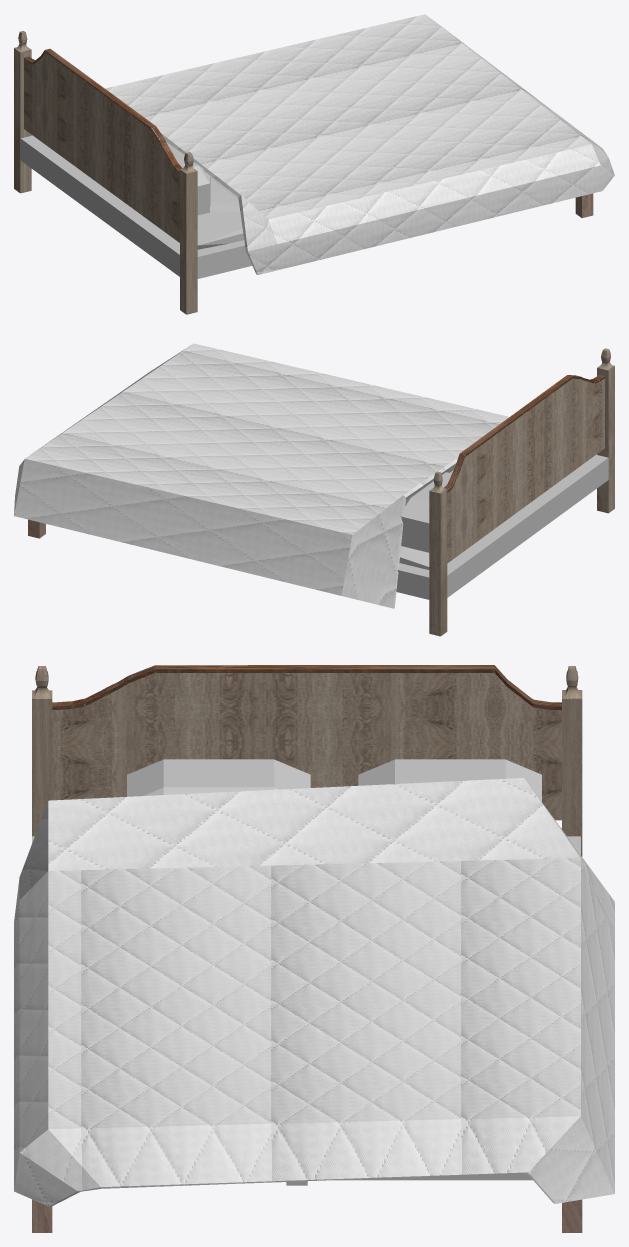
Rendered from Bed.fbx.
The picture shows the model from 3 angles, top to bottom: view 1: azimuth 30°, elevation 25°; view 2: azimuth 150°, elevation 25°; view 3: azimuth 270°, elevation 25°; orthographic projection. The views are drawn at different scales.
Parts seen in each view (by area): view 1: Плоскость, Куб, Cube, Куб.001, Куб.003, Куб.004; view 2: Плоскость, Куб, Cube, Куб.001, Куб.004, Куб.003; view 3: Плоскость, Куб, Куб.004, Куб.001, Cube.
Boxes of the visible parts, bbox=[...] form: Плоскость: bbox=[105, 14, 614, 274]; Куб: bbox=[23, 48, 182, 242]; Cube: bbox=[20, 135, 252, 278]; Куб.001: bbox=[14, 31, 593, 314]; Куб.003: bbox=[197, 178, 244, 249]; Куб.004: bbox=[166, 142, 210, 215]; Плоскость: bbox=[14, 343, 509, 608]; Куб: bbox=[444, 374, 605, 563]; Cube: bbox=[396, 454, 608, 599]; Куб.001: bbox=[28, 348, 614, 636]; Куб.004: bbox=[400, 472, 452, 552]; Куб.003: bbox=[399, 470, 453, 569]; Плоскость: bbox=[14, 778, 614, 1206]; Куб: bbox=[52, 665, 561, 820]; Куб.004: bbox=[127, 759, 541, 801]; Куб.001: bbox=[32, 666, 582, 1232]; Cube: bbox=[32, 827, 580, 1185].
Size of the model in its own units: 295 by 102 by 219.
